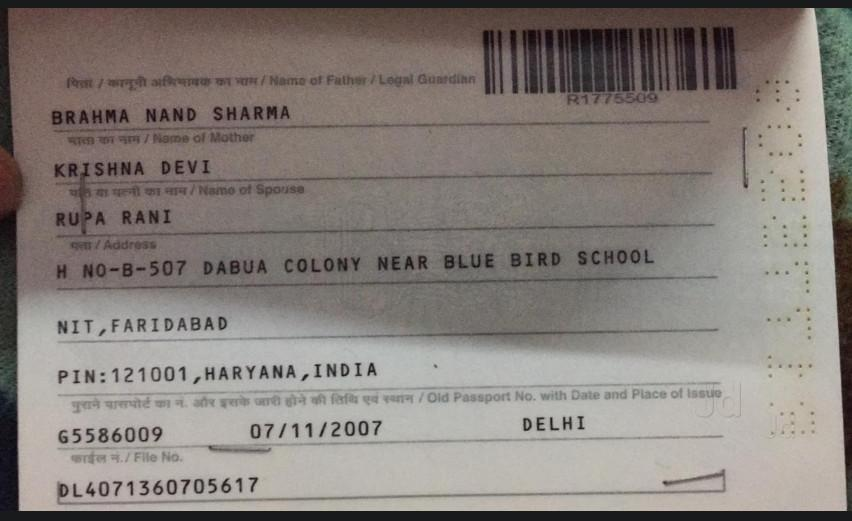File_no: (43, 471, 276, 501)
address: (47, 242, 687, 389)
father_name: (45, 98, 304, 132)
mother_name: (46, 150, 220, 185)
old_passport_details: (38, 408, 594, 448)
passport_no: (561, 86, 676, 120)
spouse_name: (48, 201, 182, 236)
